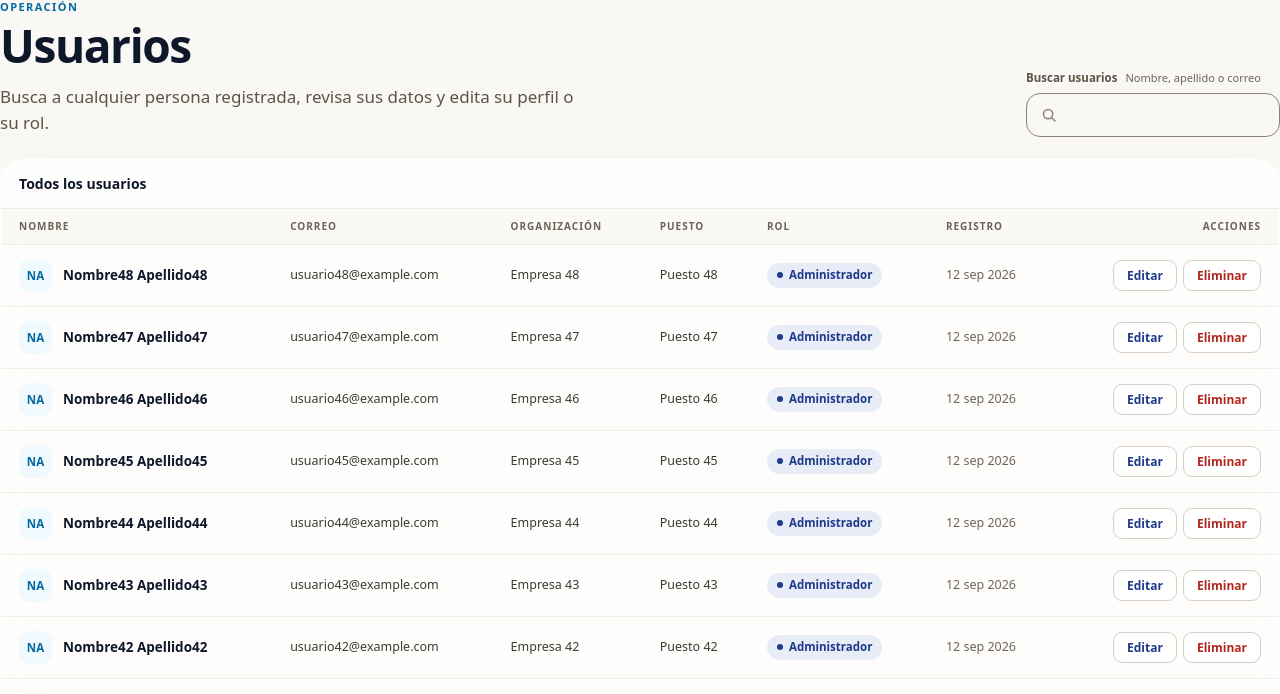
Test: AdminUsuariosPage (/admin/usuarios) › eliminar › al confirmar elimina, confirma con un toast y recarga la lista
Click the button named "Eliminar a Nombre48 Apellido48" at point(1222, 275), box [1183,260,1261,291]
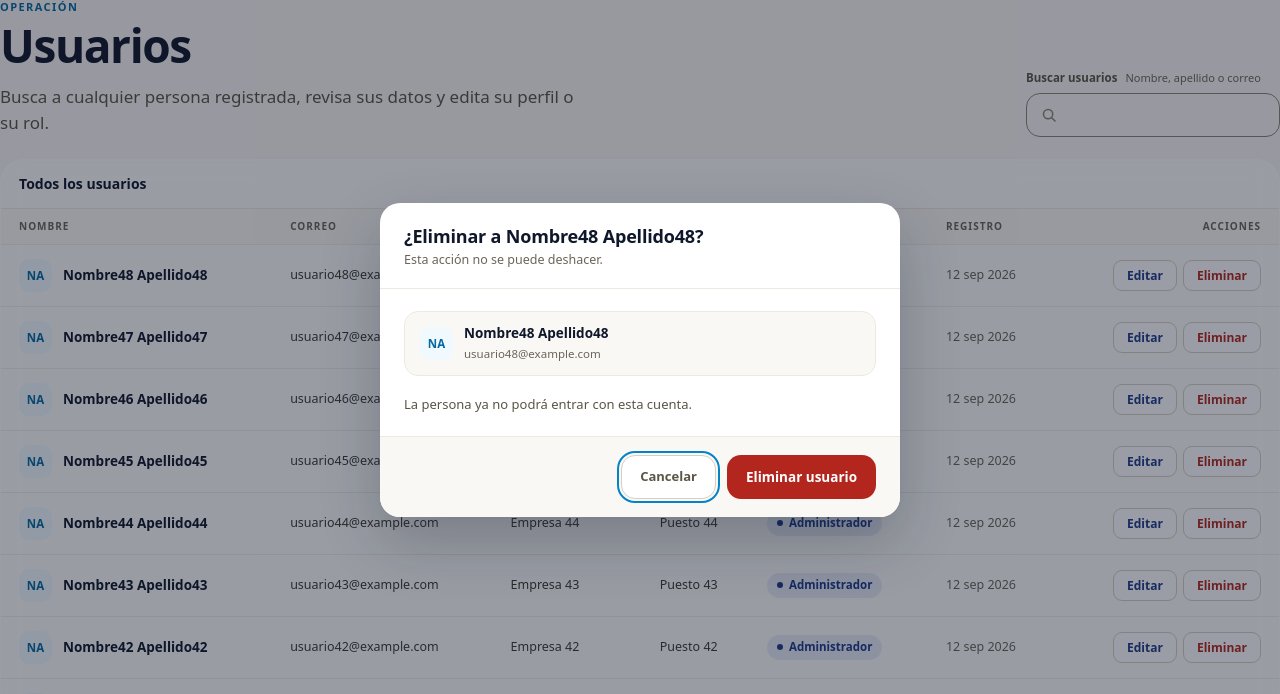
Click the button "Eliminar usuario" at point(802, 477), box [727,455,876,499]
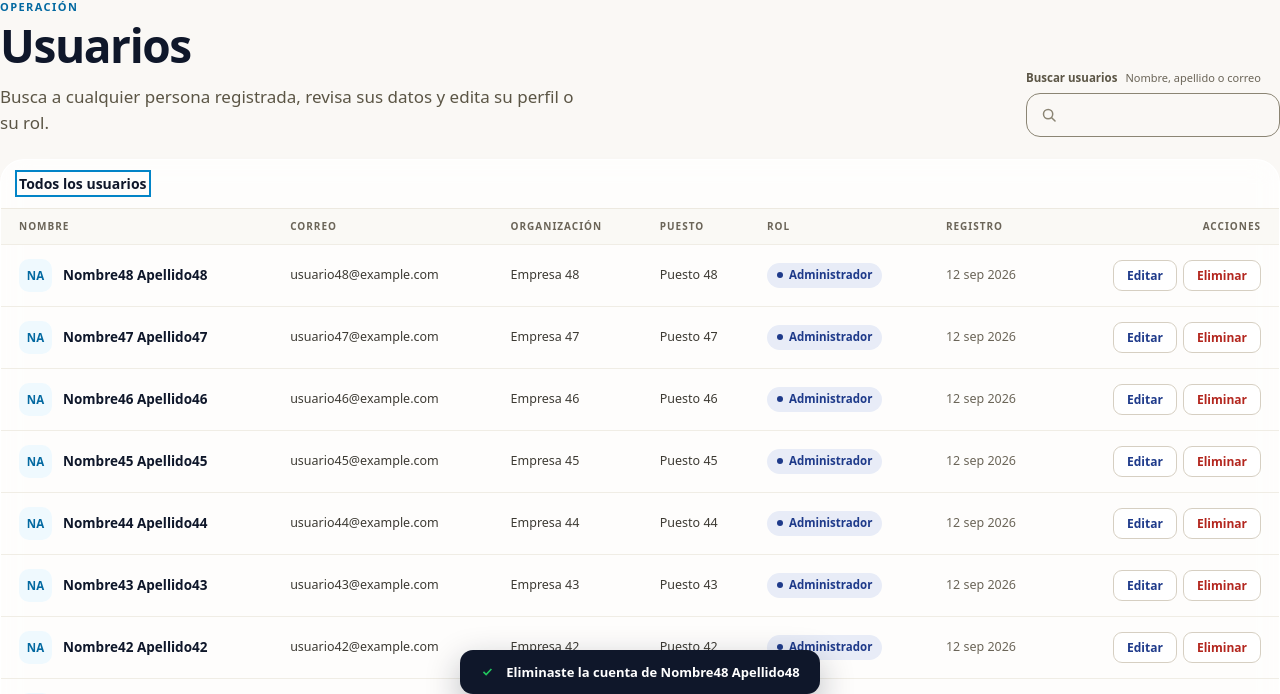
expect the text "Eliminaste la cuenta de Nombre48 Apellido48" is shown: met, box [506,663,800,681]
expect the dialog is gone: met
